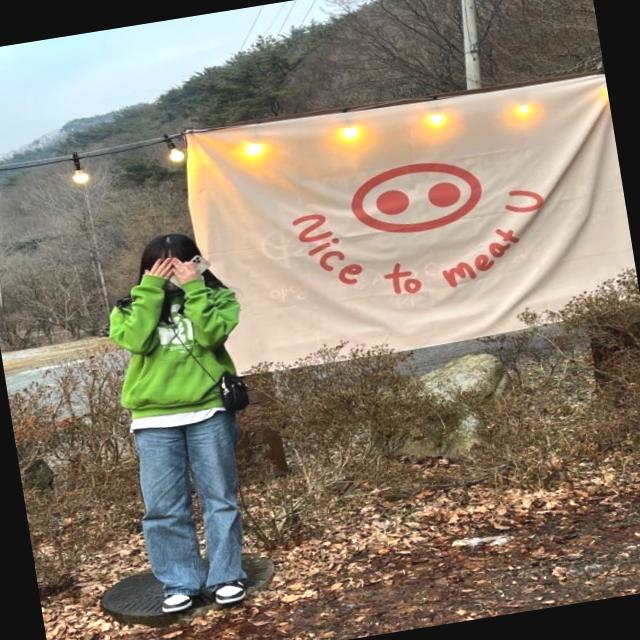denimpants: (124, 406, 258, 598)
hoodies: (102, 262, 258, 428)
